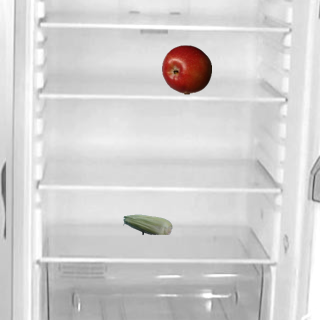Apple Braeburn: (161, 44, 211, 94)
Corn Husk: (122, 199, 172, 249)
